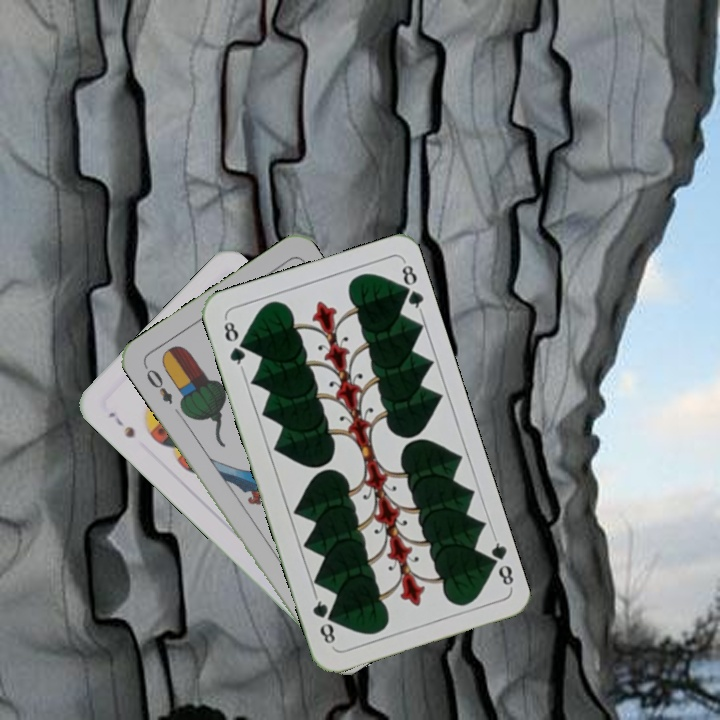EO: (140, 361, 176, 407)
G8: (481, 533, 517, 591), (219, 314, 248, 372)
S7: (104, 408, 137, 441)
